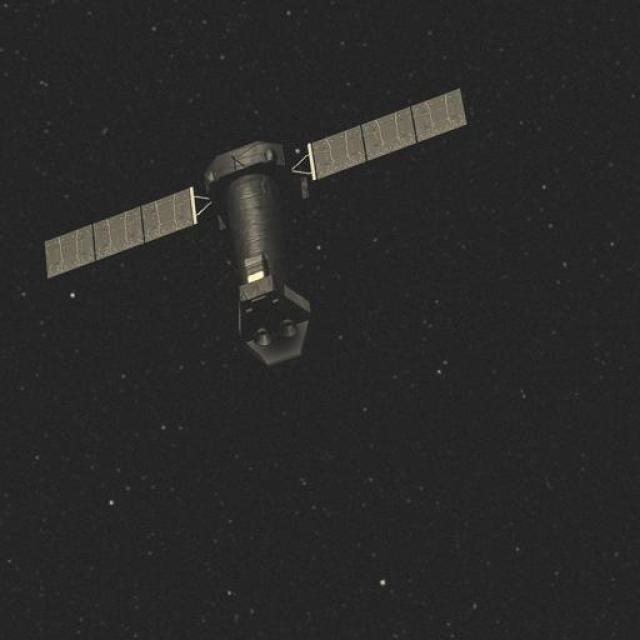xmm_newton: (112, 110, 433, 358)
